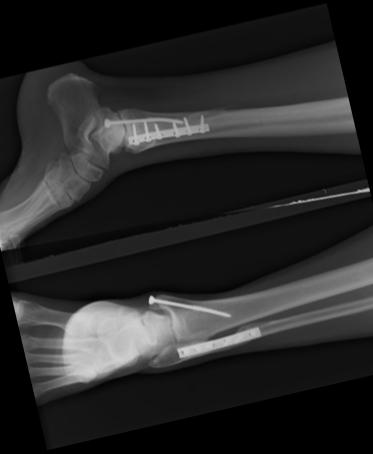fractured: (178, 109, 230, 139), (232, 322, 262, 345)
